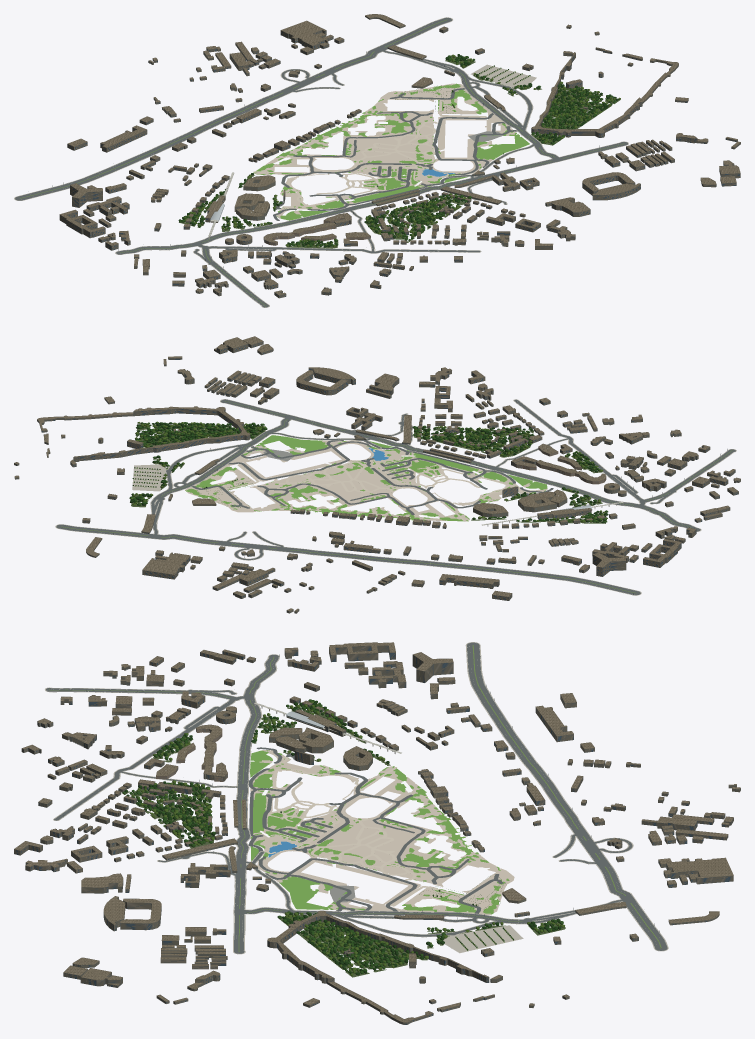
File: venue-site-detail.glb
The picture shows the model from 3 angles, top to bottom: view 1: azimuth 30°, elevation 25°; view 2: azimuth 150°, elevation 25°; view 3: azimuth 270°, elevation 25°; orthographic projection. The views are drawn at different scales.
Parts seen in each view (by area): view 1: SITE_SURFACE_plaza, SITE_ROAD_asphaltArterial_000, SITE_SURFACE_lawn, SITE_ROAD_footpaths_000, SITE_ROAD_serviceRoads_003, SITE_ROAD_walkways_007, SITE_eastern_parking_ground, SITE_ROAD_serviceRoads_006, SITE_ROAD_serviceRoads_002, SITE_osm-building-15175_roof, SITE_ROAD_asphaltLocal_001, SITE_ROAD_walkways_005; view 2: SITE_SURFACE_plaza, SITE_ROAD_asphaltArterial_000, SITE_SURFACE_lawn, SITE_ROAD_footpaths_000, SITE_ROAD_serviceRoads_003, SITE_osm-building-14581_walls, SITE_ROAD_walkways_007, SITE_eastern_parking_ground, SITE_ROAD_serviceRoads_006, SITE_ROAD_serviceRoads_002, SITE_osm-building-15175_roof, SITE_ROAD_walkways_005 (+1 smaller); view 3: SITE_SURFACE_plaza, SITE_ROAD_asphaltArterial_000, SITE_SURFACE_lawn, SITE_ROAD_footpaths_000, SITE_ROAD_serviceRoads_003, SITE_ROAD_walkways_007, SITE_eastern_parking_ground, SITE_ROAD_serviceRoads_006, SITE_ROAD_serviceRoads_002, SITE_osm-building-14581_walls, SITE_osm-building-15175_roof, SITE_ROAD_asphaltLocal_001 (+2 smaller).
Part boxes in pixels (x1,y1,x2,y2): SITE_SURFACE_plaza: [254, 83, 515, 218]; SITE_ROAD_asphaltArterial_000: [15, 17, 627, 307]; SITE_SURFACE_lawn: [253, 83, 529, 220]; SITE_ROAD_footpaths_000: [14, 17, 628, 307]; SITE_ROAD_serviceRoads_003: [281, 111, 432, 187]; SITE_ROAD_walkways_007: [315, 121, 437, 171]; SITE_eastern_parking_ground: [470, 64, 536, 87]; SITE_ROAD_serviceRoads_006: [432, 113, 516, 174]; SITE_ROAD_serviceRoads_002: [307, 166, 459, 210]; SITE_osm-building-15175_roof: [281, 21, 327, 45]; SITE_ROAD_asphaltLocal_001: [285, 210, 480, 253]; SITE_ROAD_walkways_005: [316, 166, 405, 195]; SITE_SURFACE_plaza: [185, 440, 547, 520]; SITE_ROAD_asphaltArterial_000: [56, 399, 735, 595]; SITE_SURFACE_lawn: [185, 435, 547, 521]; SITE_ROAD_footpaths_000: [55, 399, 736, 595]; SITE_ROAD_serviceRoads_003: [257, 468, 480, 515]; SITE_osm-building-14581_walls: [73, 425, 250, 461]; SITE_ROAD_walkways_007: [274, 461, 434, 499]; SITE_eastern_parking_ground: [132, 464, 166, 491]; SITE_ROAD_serviceRoads_006: [228, 440, 371, 480]; SITE_ROAD_serviceRoads_002: [375, 444, 515, 489]; SITE_osm-building-15175_roof: [143, 552, 189, 574]; SITE_ROAD_walkways_005: [393, 461, 480, 488]; SITE_SURFACE_plaza: [250, 750, 514, 914]; SITE_ROAD_asphaltArterial_000: [46, 642, 667, 953]; SITE_SURFACE_lawn: [250, 750, 509, 914]; SITE_ROAD_footpaths_000: [45, 642, 668, 954]; SITE_ROAD_serviceRoads_003: [317, 772, 469, 884]; SITE_ROAD_walkways_007: [310, 795, 416, 880]; SITE_eastern_parking_ground: [443, 925, 523, 953]; SITE_ROAD_serviceRoads_006: [258, 856, 417, 911]; SITE_ROAD_serviceRoads_002: [248, 768, 319, 856]; SITE_osm-building-14581_walls: [304, 916, 489, 982]; SITE_osm-building-15175_roof: [666, 858, 733, 878]; SITE_ROAD_asphaltLocal_001: [54, 733, 237, 820].
Bounding box in the file's own units: 2572 × 36.94 × 2064.
Materials: 30 (4 with a texture image).
